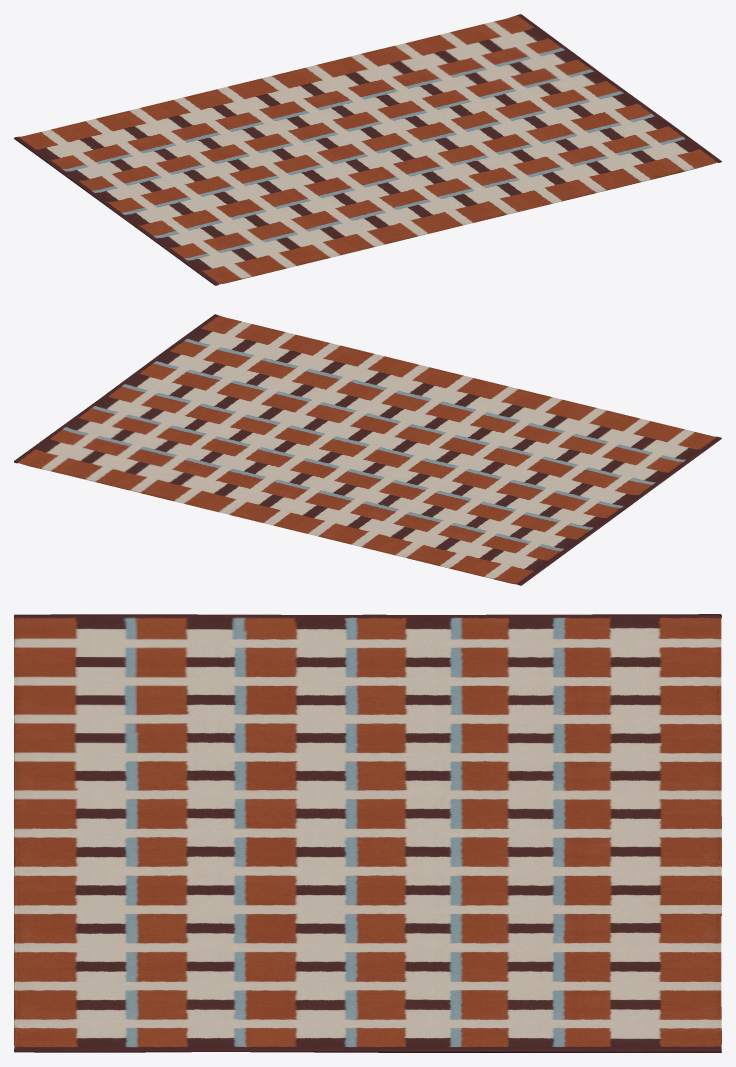
Rendered from rugs-home-textiles_rugs_stockholm-2025-rug-flatwoven_white-brown-light-blue-handwoven_70593814.glb.
3 views of the same model, one above another, from view 1: azimuth 30°, elevation 25°; view 2: azimuth 150°, elevation 25°; view 3: azimuth 270°, elevation 25° (orthographic). The views are drawn at different scales.
Visible parts, largest first — view 1: ASY_ART_70593814_S01_NV01; view 2: ASY_ART_70593814_S01_NV01; view 3: ASY_ART_70593814_S01_NV01.
Boxes of the visible parts, left/top/right/bottom form: ASY_ART_70593814_S01_NV01: left=14, top=14, right=721, bottom=285; ASY_ART_70593814_S01_NV01: left=14, top=314, right=721, bottom=585; ASY_ART_70593814_S01_NV01: left=14, top=614, right=721, bottom=1052.
Bounding box in the file's own units: 3.5 × 0.0137 × 2.4.
Materials: 1 (1 with a texture image).
